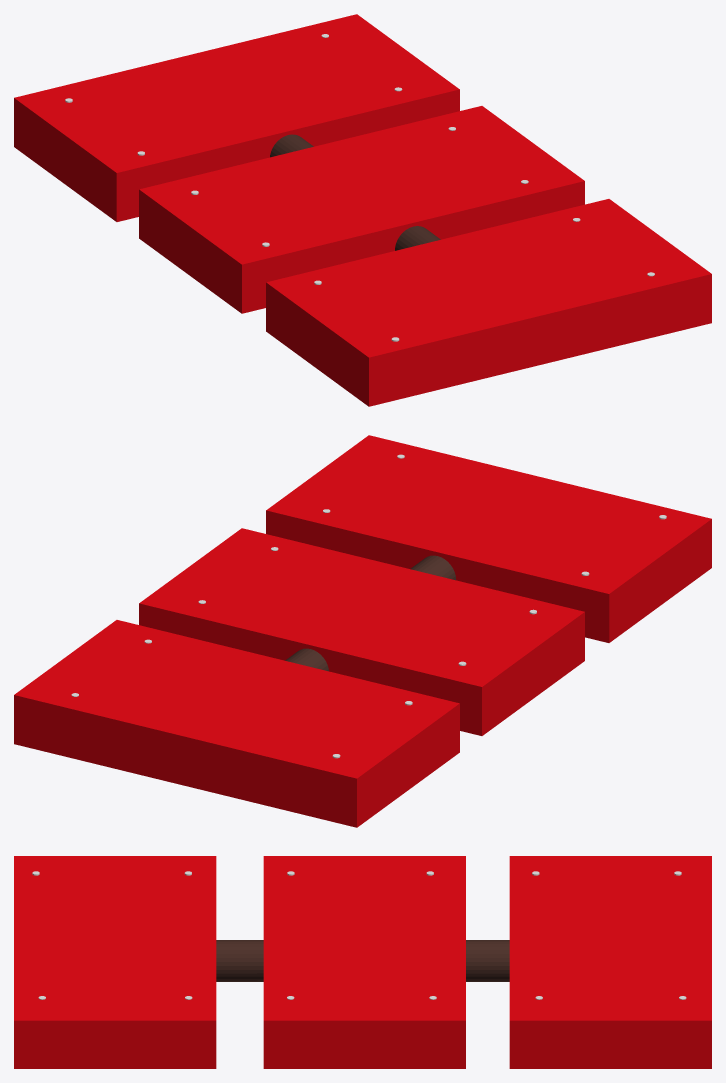
File: plataforma_2.fbx
3 views of the same model, one above another, from view 1: azimuth 30°, elevation 25°; view 2: azimuth 150°, elevation 25°; view 3: azimuth 270°, elevation 25° (orthographic).
Visible parts, largest first — view 1: Cube, Cube.002, Cube.001, Cylinder.004; view 2: Cube.001, Cube, Cube.002, Cylinder.004; view 3: Cube.002, Cube.001, Cube, Cylinder.004, Cylinder.005.
Part boxes in pixels (x1,y1,x2,y2): Cube: (266,199,711,406); Cube.002: (139,106,584,313); Cube.001: (14,14,459,221); Cylinder.004: (395,226,440,250); Cube.001: (14,620,459,827); Cube: (266,435,711,642); Cube.002: (139,528,584,735); Cylinder.004: (410,555,455,580); Cube.002: (263,856,465,1068); Cube.001: (509,856,711,1068); Cube: (14,856,216,1068); Cylinder.004: (216,940,263,981); Cylinder.005: (466,940,509,981).
Bounding box in the file's own units: 892 × 125 × 1599.
